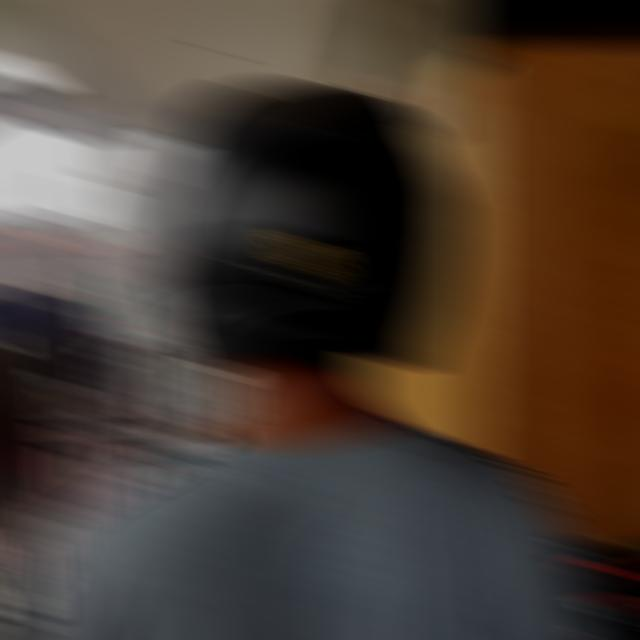With Helmet: (144, 76, 462, 374)
